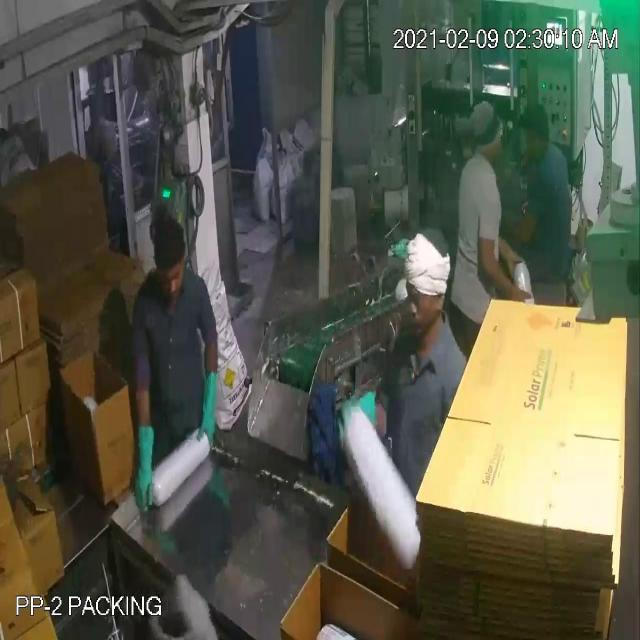Gloves: (40, 58, 507, 462)
